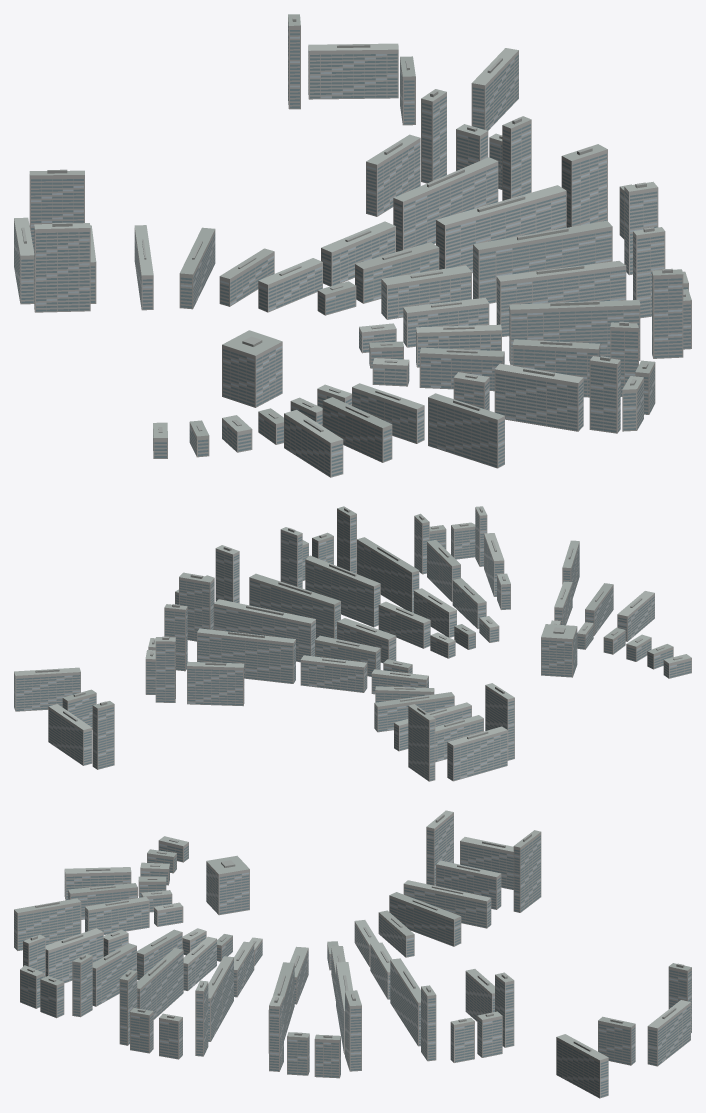
Rendered from apt-a13805002.glb.
The picture shows the model from 3 angles, top to bottom: view 1: azimuth 30°, elevation 25°; view 2: azimuth 150°, elevation 25°; view 3: azimuth 270°, elevation 25°; orthographic projection. The views are drawn at different scales.
Visible parts, largest first — view 1: apt-a13805002; view 2: apt-a13805002; view 3: apt-a13805002.
Boxes of the visible parts, x1,y1,x2,y2 form: apt-a13805002: [14, 14, 691, 477]; apt-a13805002: [14, 506, 691, 781]; apt-a13805002: [14, 810, 691, 1098].
Size of the model in its own units: 590 by 75.6 by 687.
